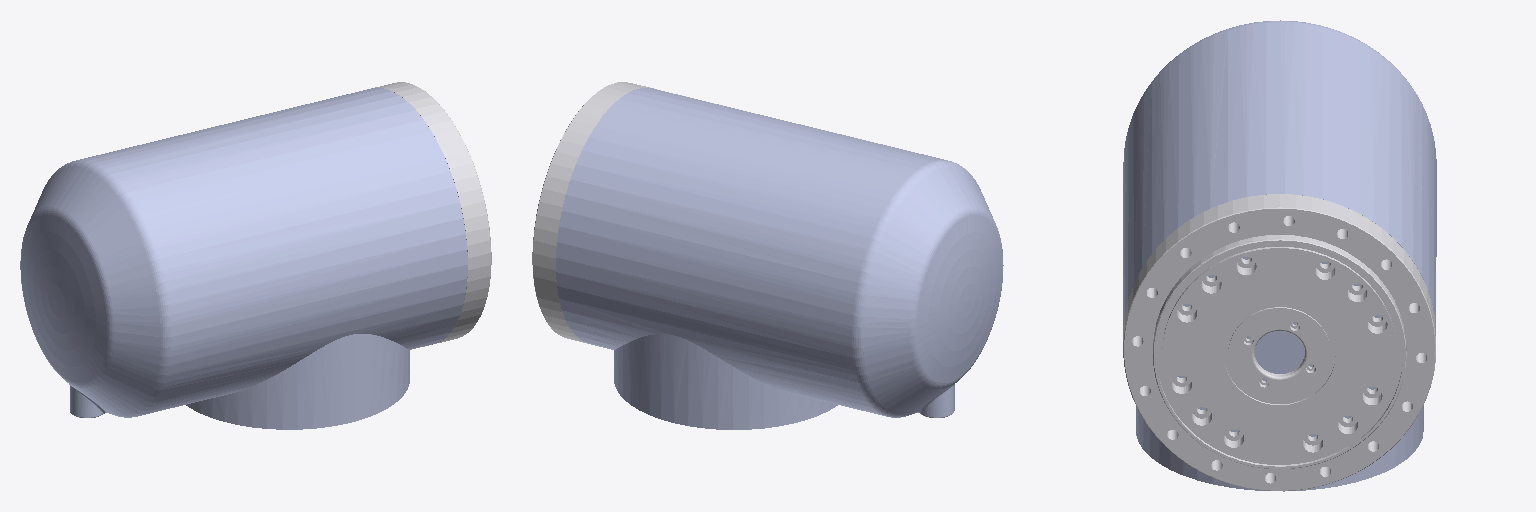
URDF robot description (awjoint40100):
<?xml version="1.0" encoding="utf-8"?>
<!-- This URDF was automatically created by SolidWorks to URDF Exporter! Originally created by [author] ([email redacted]) 
     Commit Version: 1.5.1-0-g916b5db  Build Version: 1.5.7152.31018
     For more information, please see http://wiki.ros.org/sw_urdf_exporter -->
<robot
  name="awjoint40100">
  <link
    name="rifJ40">
    <inertial>
      <origin
        xyz="0 -0.017 -0.098"
        rpy="0 0 0" />
      <mass
        value="16.7" />
      <inertia
        ixx="0.094513"
        ixy="-0.000131"
        ixz="0"
        iyy="0.071007"
        iyz="0.0008105"
        izz="0.092453" />
    </inertial>
    <visual>
      <origin
        xyz="0 0 0"
        rpy="3.14 0 0" />
      <geometry>
        <mesh
          filename="package://awjoint40100/meshes/rifJ40.STL" />
      </geometry>
      <material
        name="">
        <color
          rgba="0.79216 0.81961 0.93333 1" />
      </material>
    </visual>
    <collision>
      <origin
        xyz="0 0 0"
        rpy="3.14 0 0" />
      <geometry>
        <mesh
          filename="package://awjoint40100/meshes/rifJ40.STL" />
      </geometry>
    </collision>
  </link>
  <link
    name="J40">
    <inertial>
      <origin
        xyz="0 0 -0.01385"
        rpy="0 0 0" />
      <mass
        value="1.17" />
      <inertia
        ixx="0.00303366"
        ixy="0"
        ixz="0"
        iyy="0.00303366"
        iyz="0"
        izz="0.00584945" />
    </inertial>
    <visual>
      <origin
        xyz="0 0 0"
        rpy="0 0 0" />
      <geometry>
        <mesh
          filename="package://awjoint40100/meshes/J40.STL" />
      </geometry>
      <material
        name="">
        <color
          rgba="0.8902 0.8902 0.91373 1" />
      </material>
    </visual>
    <collision>
      <origin
        xyz="0 0 0"
        rpy="0 0 0" />
      <geometry>
        <mesh
          filename="package://awjoint40100/meshes/J40.STL" />
      </geometry>
    </collision>
  </link>
  <joint
    name="J40"
    type="revolute">
    <origin
      xyz="0.1179 0 +0.1045"
      rpy="0 1.5708 0" />
    <parent
      link="rifJ40" />
    <child
      link="J40" />
    <axis
      xyz="0 0 -1" />
    <limit
      lower="-3.14"
      upper="3.14"
      effort="630"
      velocity="1.24" />
    <dynamics
      damping="1"
      friction="0.1" />
  </joint>
</robot>

--- Render facts (derived) ---
The picture shows the robot from 3 angles, left to right: view 1: azimuth 30°, elevation 25°; view 2: azimuth 150°, elevation 25°; view 3: azimuth 270°, elevation 25°; orthographic projection.
Robot: awjoint40100 — 2 links, 1 joints (1 revolute); root link rifJ40; default pose: every joint at zero.
Links seen in each view (by area): view 1: rifJ40, J40; view 2: rifJ40, J40; view 3: J40, rifJ40.
Boxes of the visible links, <box> form: rifJ40: <box>20,88,467,429</box>; J40: <box>371,82,491,344</box>; rifJ40: <box>556,88,1003,429</box>; J40: <box>532,82,653,343</box>; J40: <box>1123,194,1435,490</box>; rifJ40: <box>1123,20,1436,491</box>.
Size in the robot's own frame: 0.3067 by 0.1851 by 0.1971 metres.
2 mesh visuals loaded from 2 distinct referenced files (2 binary STL).
